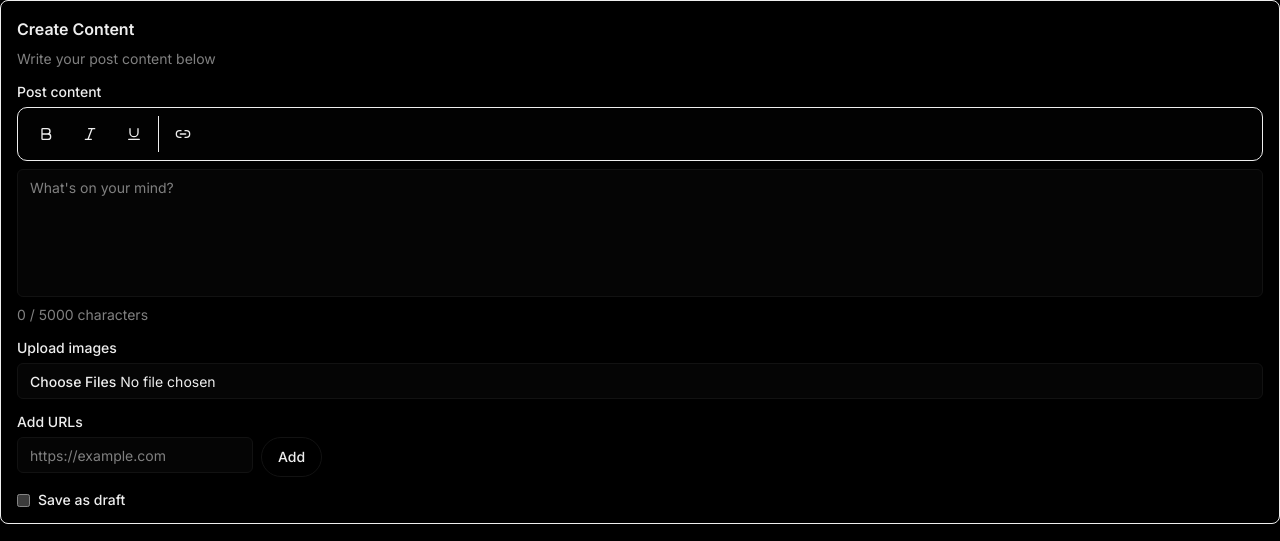
it: ContentCreator › displays character count
Type "Hello world" into the text box with placeholder "What's on your mind?". click: [640, 233]
box: 17,169 -> 1263,297
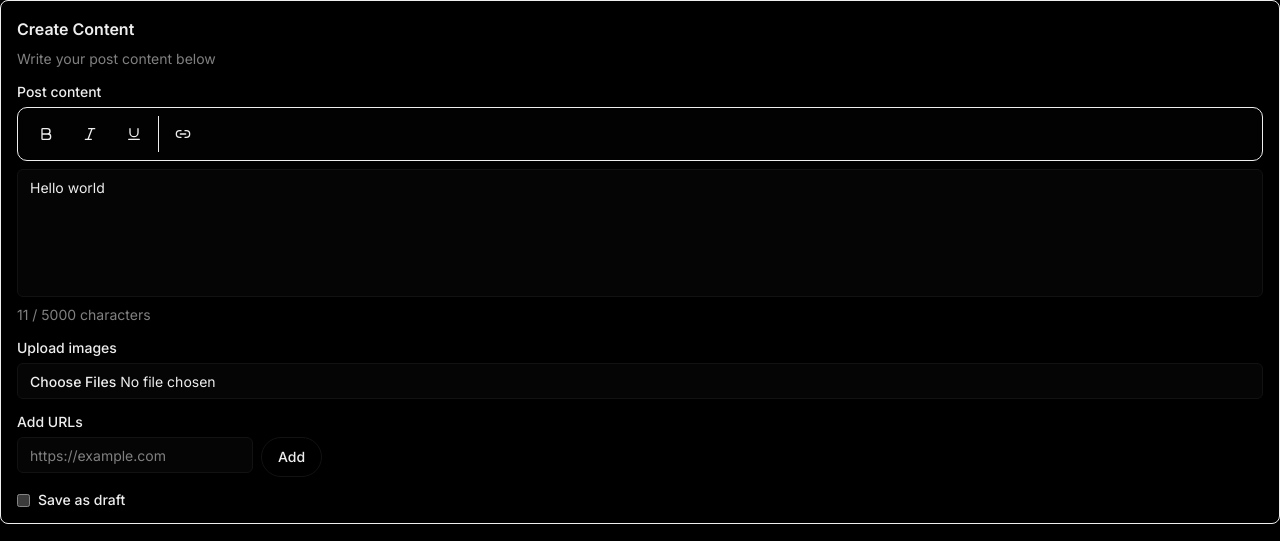
Expected: the text "11 / 5000 characters" is shown, 17,305 -> 151,325
